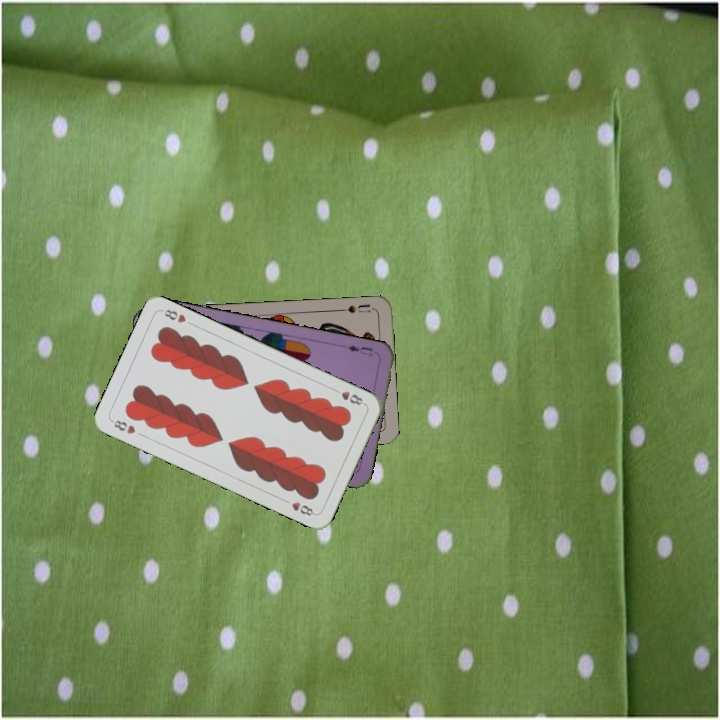EU: (343, 341, 375, 358)
H8: (329, 385, 367, 408), (107, 416, 138, 437)
SU: (336, 300, 376, 315)
